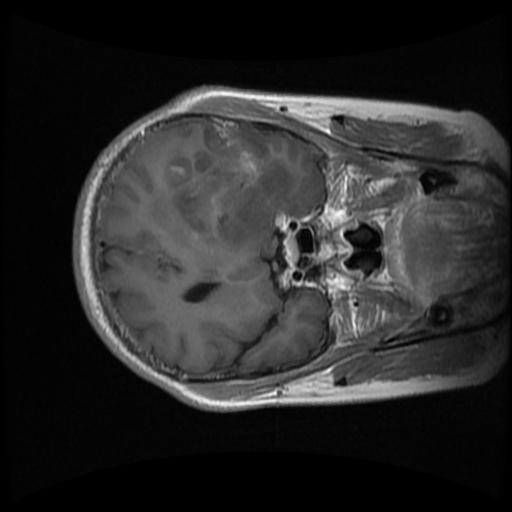glioma: (148, 119, 321, 282)
